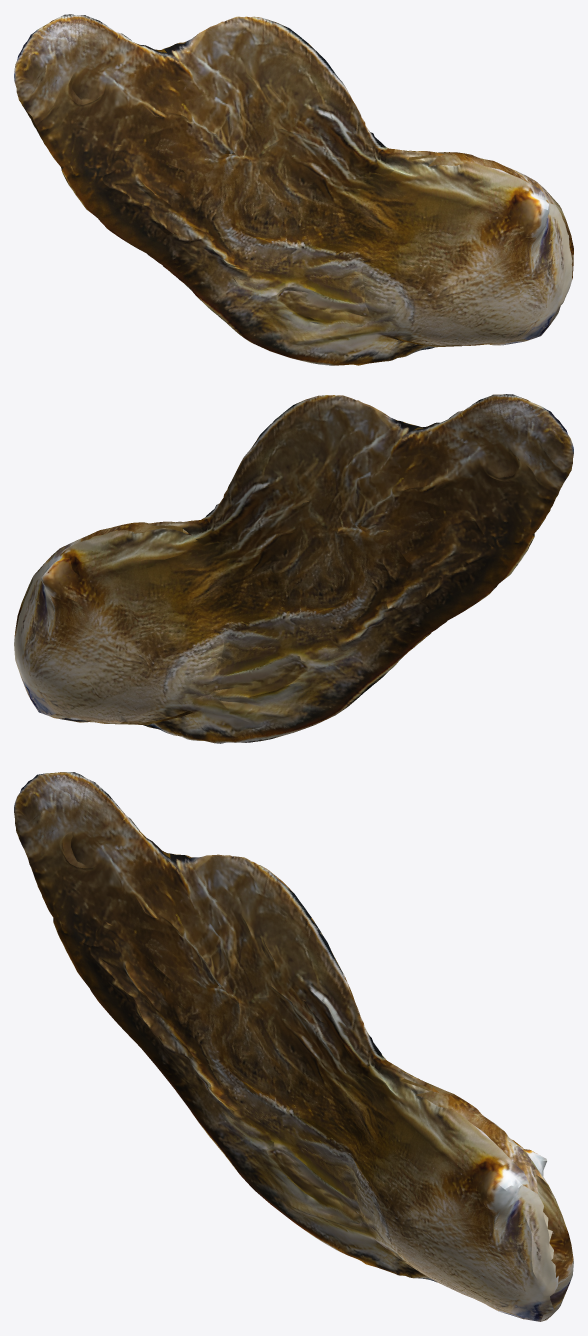
The model's file is asset.glb.
3 renders of one model, top to bottom at view 1: azimuth 30°, elevation 25°; view 2: azimuth 150°, elevation 25°; view 3: azimuth 330°, elevation 25°, orthographic.
Parts seen in each view (by area): view 1: model_457328138817; view 2: model_457328138817; view 3: model_457328138817.
Part boxes in pixels (x1,y1,x2,y2): model_457328138817: (14,14,573,365); model_457328138817: (14,394,573,743); model_457328138817: (14,772,573,1321).
Size of the model in its own units: 3.18 by 2.37 by 0.4476.
Materials: 1 (1 with a texture image).
